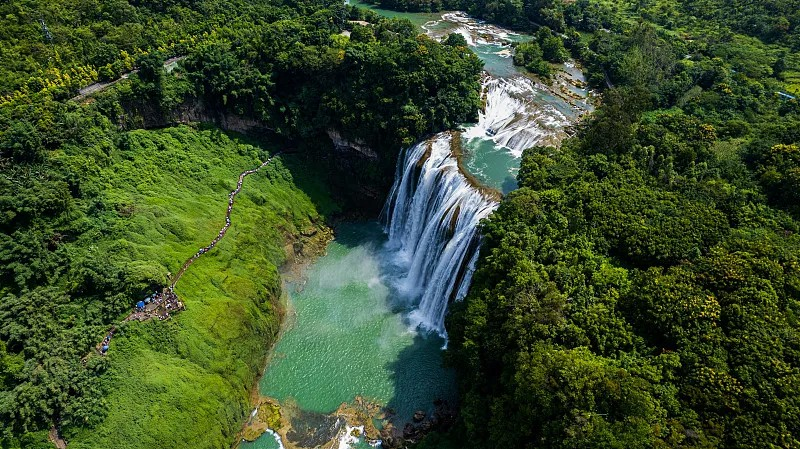Huangguoshu: (378, 78, 560, 344)
